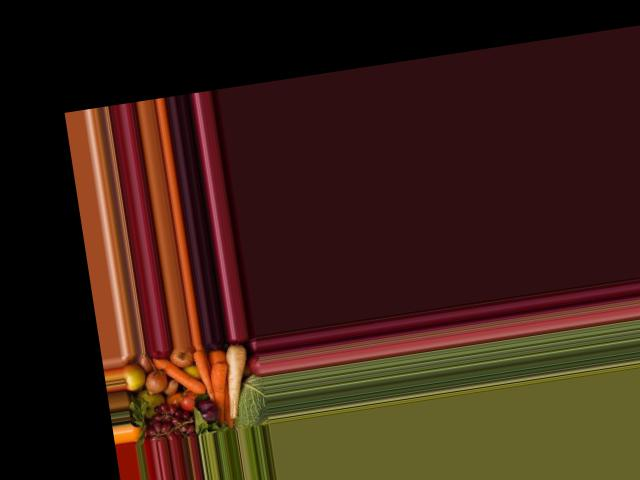carrot: (210, 359, 230, 423)
